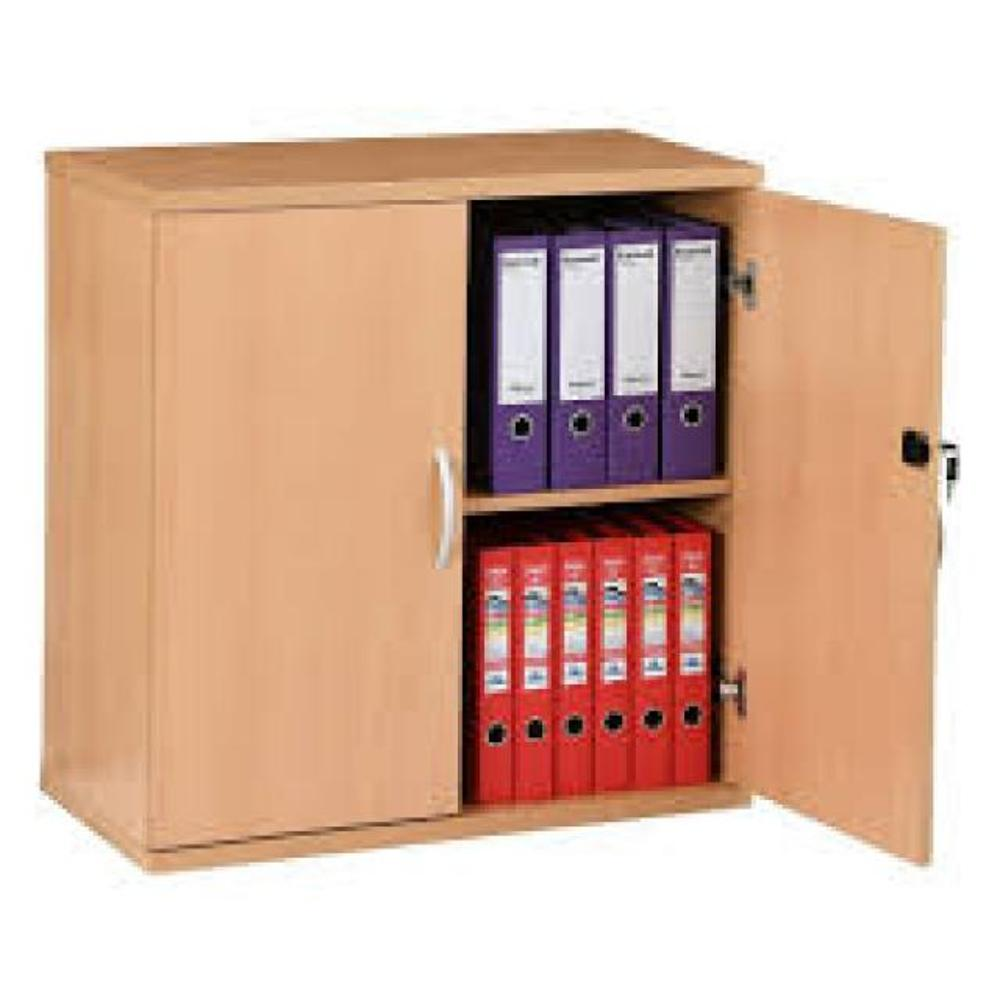cabinet: (44, 133, 947, 871)
